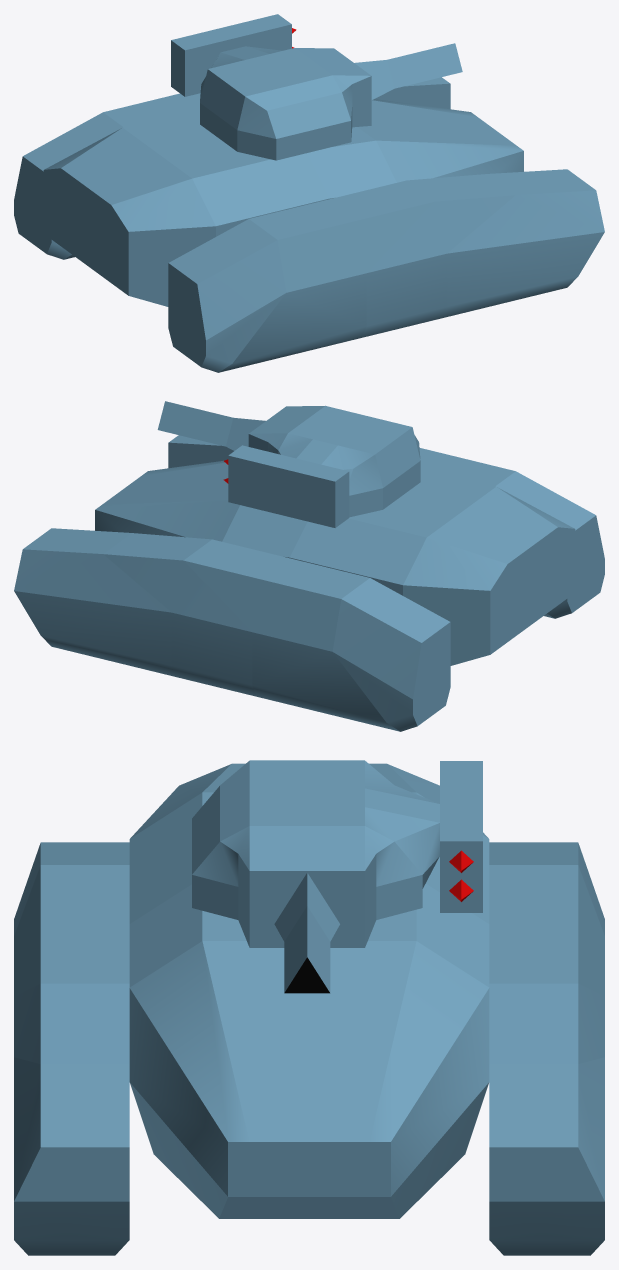
Rendered from playerTank.fbx.
3 renders of one model, top to bottom at view 1: azimuth 30°, elevation 25°; view 2: azimuth 150°, elevation 25°; view 3: azimuth 270°, elevation 25°, orthographic. The views are drawn at different scales.
Parts seen in each view (by area): view 1: tracks, body, turret; view 2: tracks, body, turret; view 3: body, tracks, turret.
Boxes of the visible parts, <box> form: tracks: <box>14,77,604,372</box>; body: <box>43,99,523,306</box>; turret: <box>171,14,462,160</box>; tracks: <box>14,435,604,731</box>; body: <box>95,460,575,665</box>; turret: <box>157,401,420,527</box>; body: <box>129,763,489,1218</box>; tracks: <box>14,842,604,1255</box>; turret: <box>192,760,482,993</box>.
Size of the model in its own units: 169 by 76.57 by 133.
